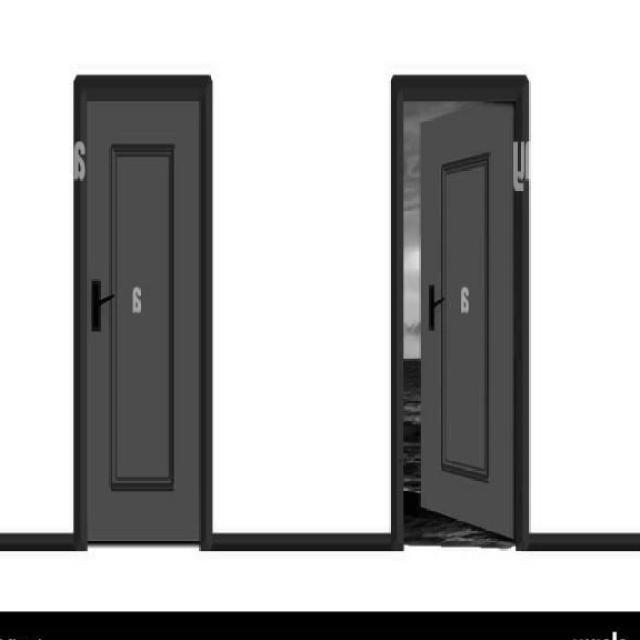door: (74, 74, 209, 544), (414, 98, 526, 544)
